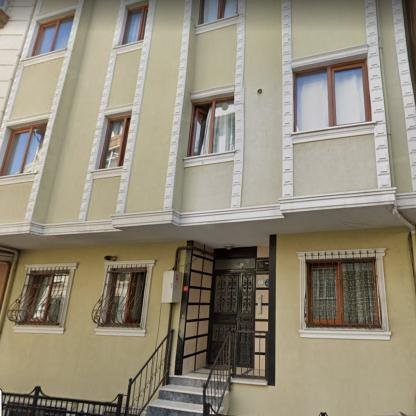door: (207, 274, 254, 366)
window: (294, 62, 368, 131), (310, 263, 379, 324), (189, 99, 233, 155), (24, 272, 69, 324), (104, 271, 146, 325), (3, 126, 46, 175), (33, 16, 74, 56), (100, 116, 131, 168), (120, 5, 148, 45), (201, 1, 237, 24), (216, 257, 256, 269)
